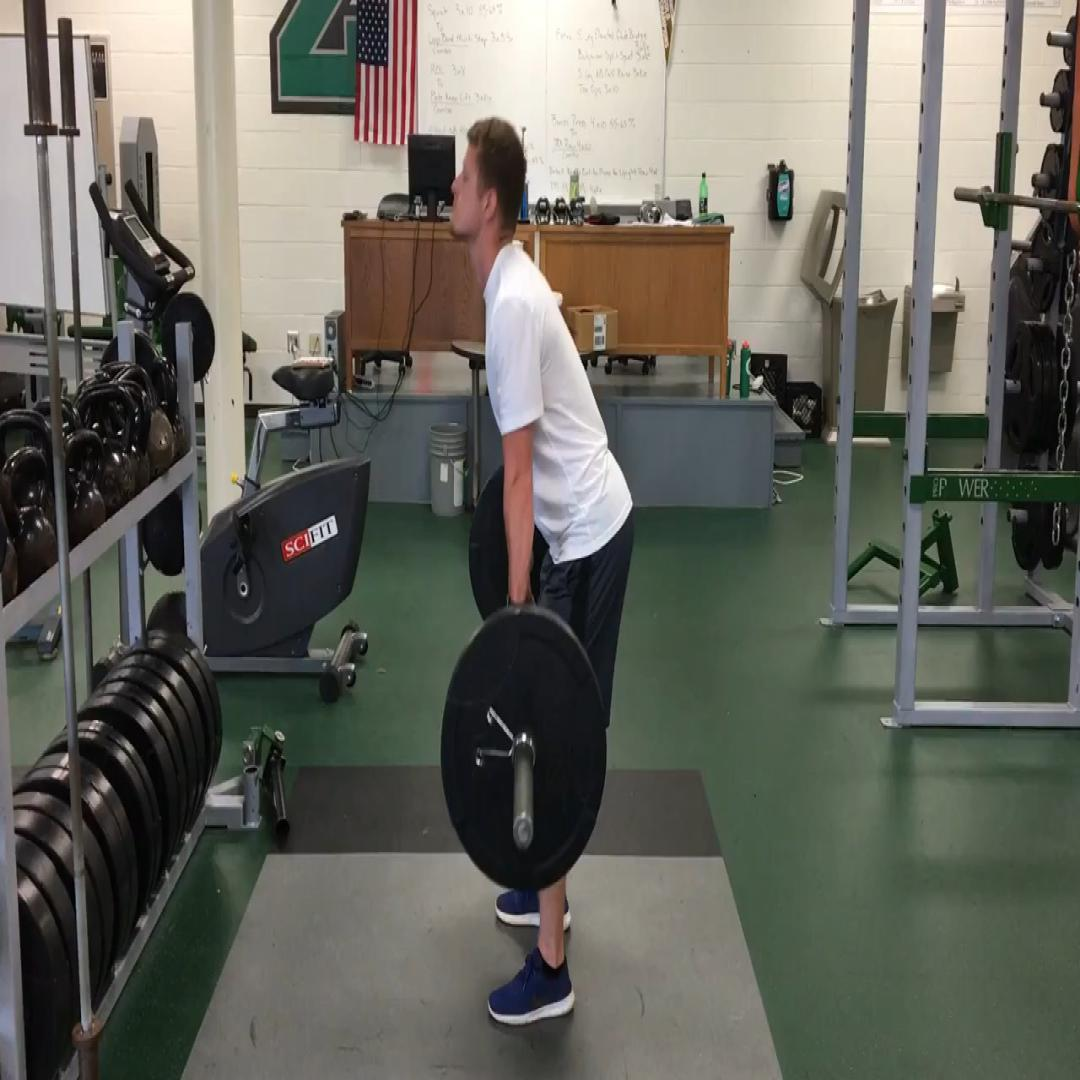Bar: (512, 812, 535, 854)
Barbell: (439, 610, 608, 894)
